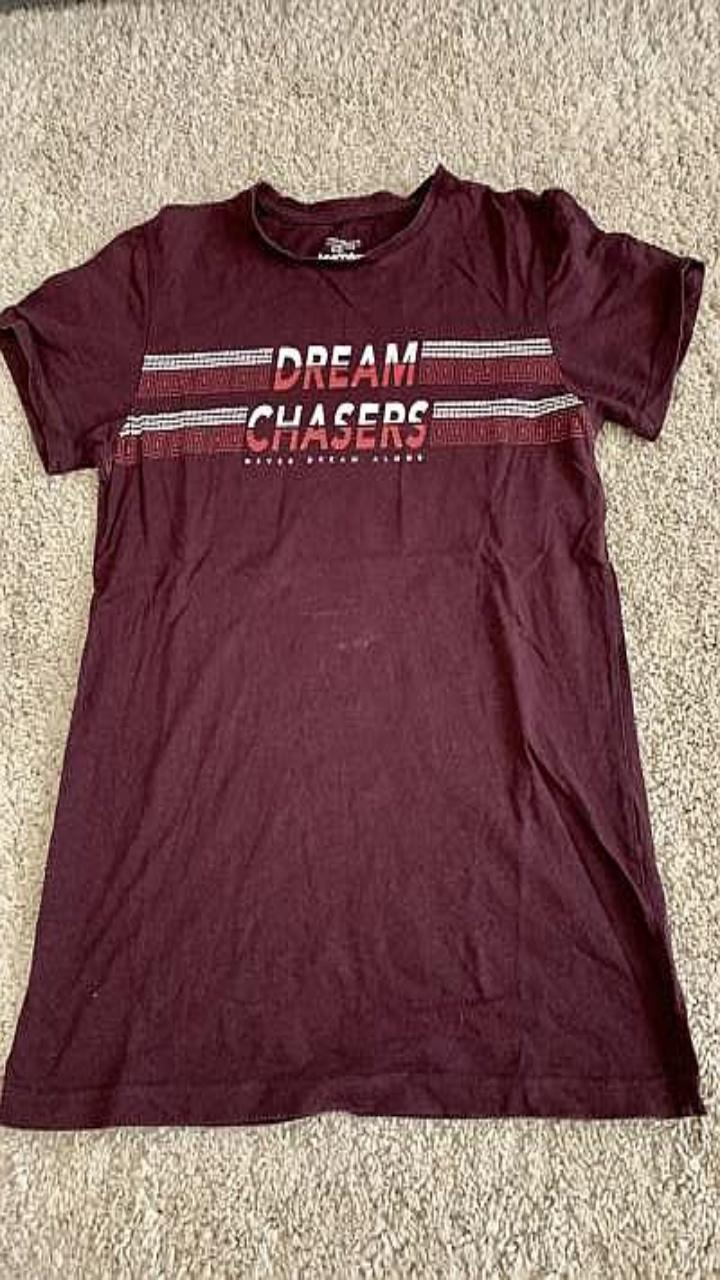T-Shirt: (0, 164, 704, 1128)
